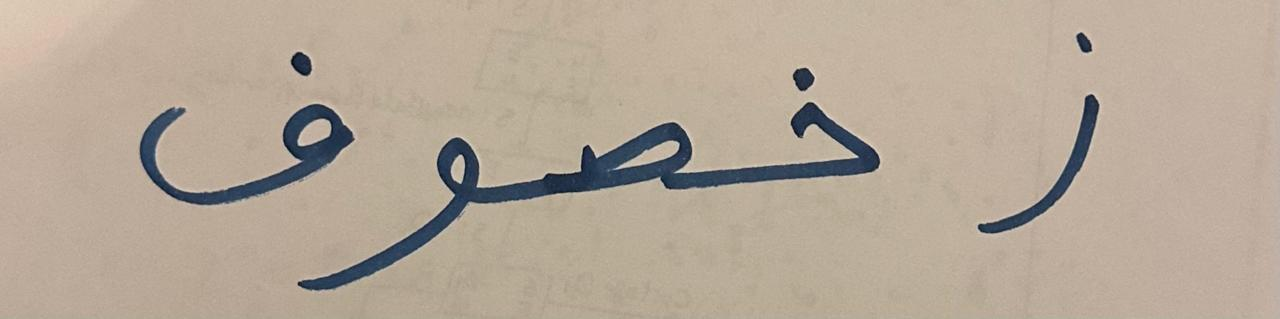feh: (91, 14, 357, 237)
hamza: (925, 3, 1188, 287)
lam: (720, 6, 921, 284)
seen: (507, 14, 717, 279)
yeh: (359, 71, 501, 302)
